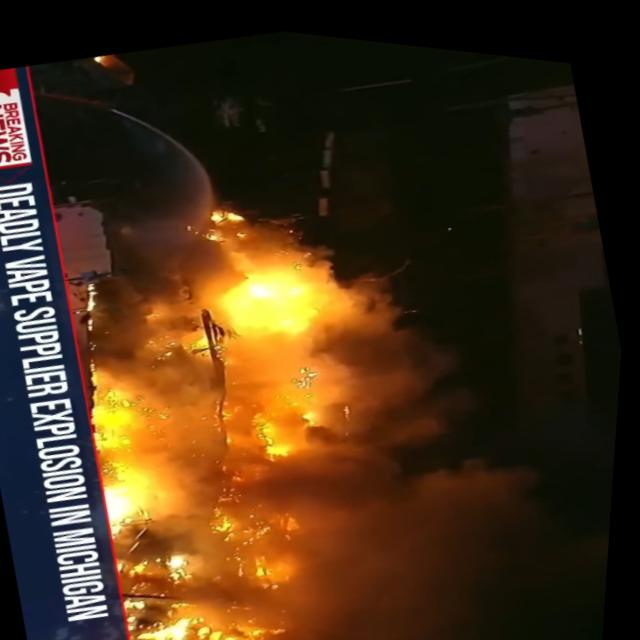Fire: (189, 172, 428, 465), (68, 310, 258, 553), (124, 460, 340, 614), (138, 565, 319, 640)
